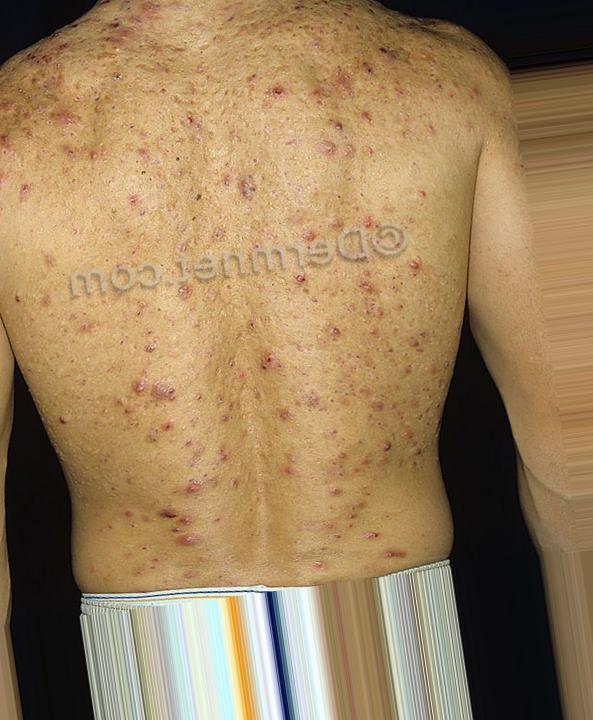Acne: (81, 263, 255, 575), (276, 256, 450, 554), (263, 16, 490, 204), (28, 73, 250, 226)
